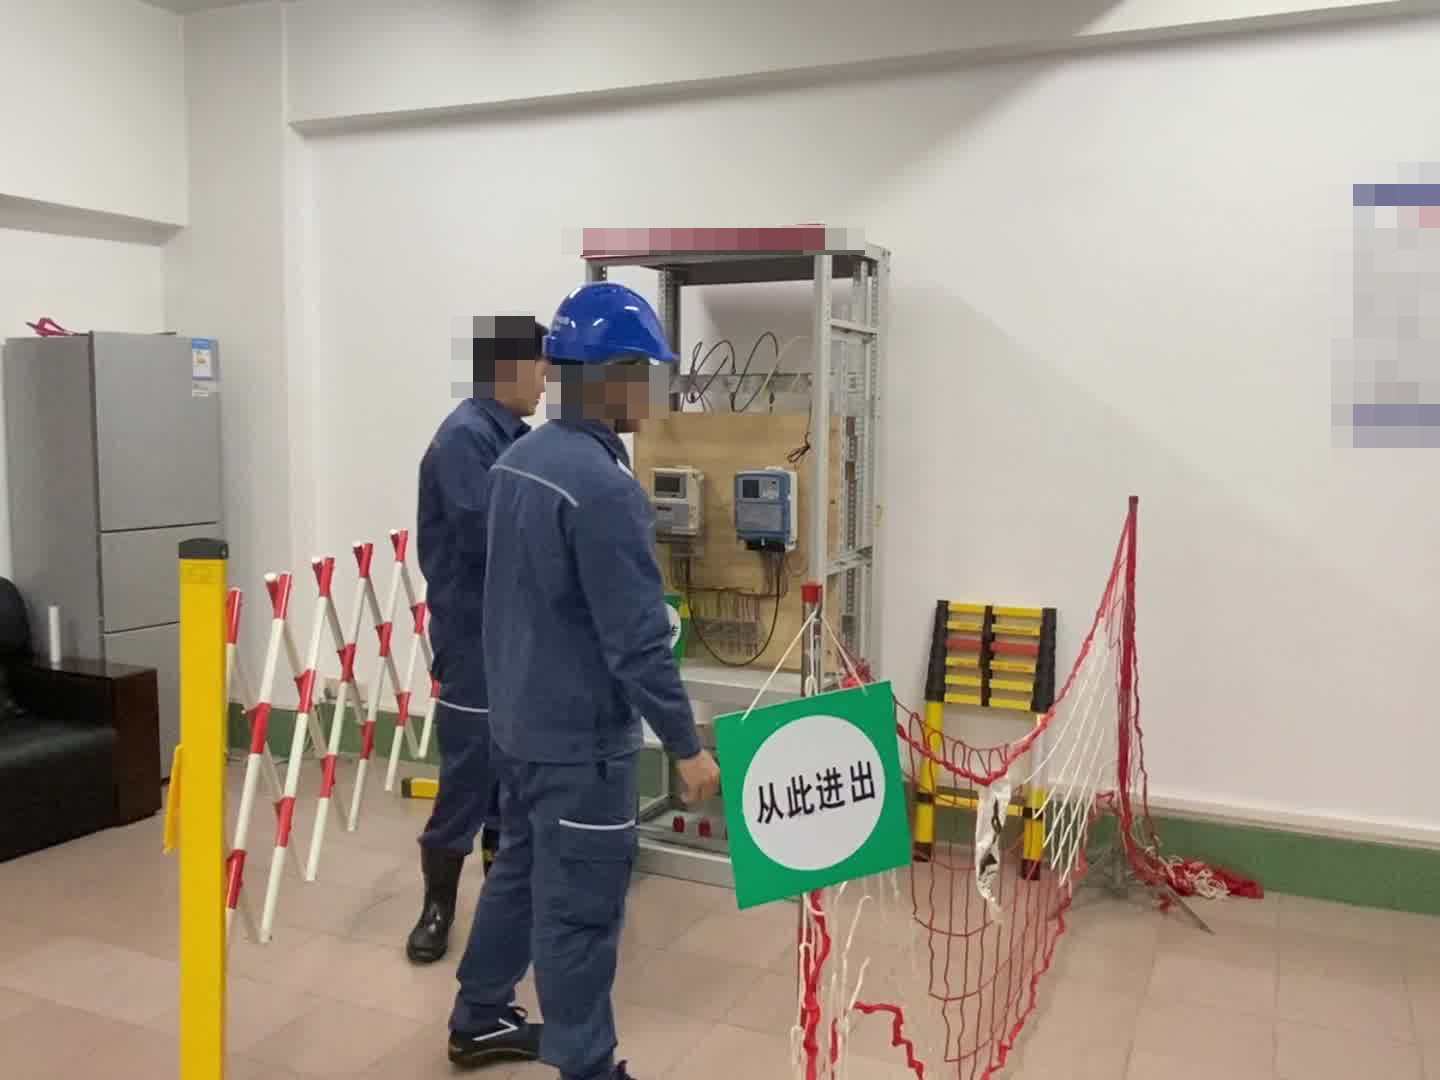downsuit: (447, 766, 643, 1065), (413, 725, 523, 840)
halt: (543, 281, 680, 427)
hand: (671, 745, 721, 803)
inear: (583, 346, 640, 443)
intosign: (704, 669, 919, 916)
noear: (497, 346, 544, 410)
person: (410, 287, 720, 1080)
shoe: (410, 836, 467, 956)
unhalt: (466, 313, 553, 413)
upsuit: (490, 404, 702, 773), (416, 401, 529, 718)
